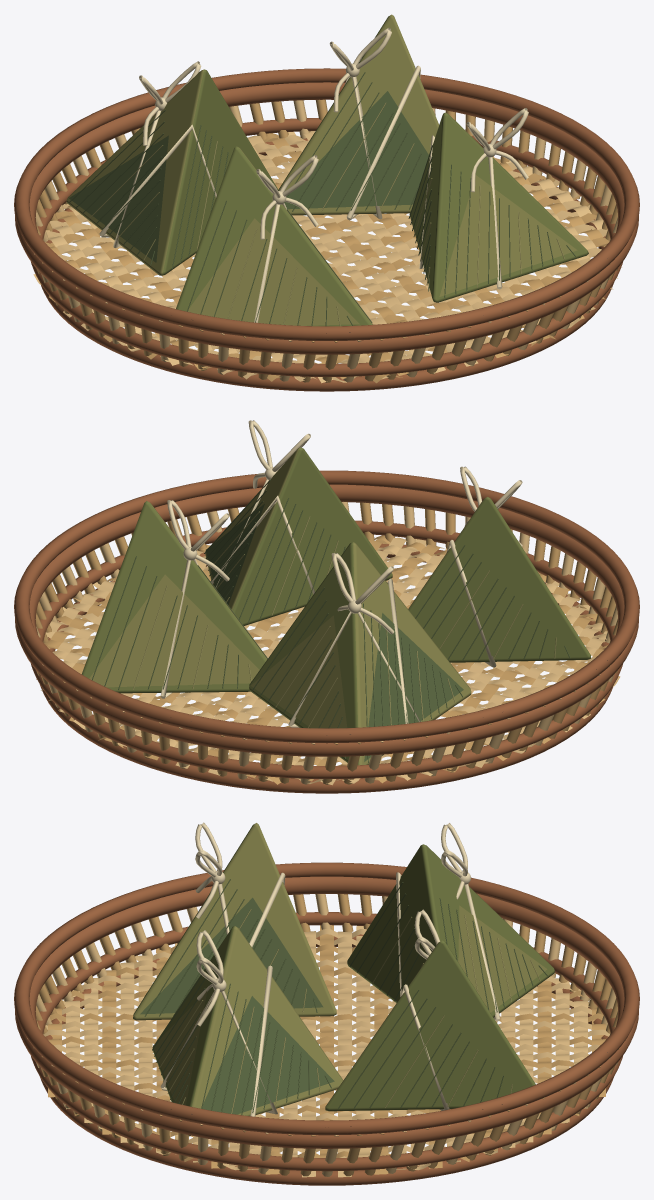
The picture shows the model from 3 angles, top to bottom: view 1: azimuth 30°, elevation 25°; view 2: azimuth 150°, elevation 25°; view 3: azimuth 270°, elevation 25°; orthographic projection.
Visible parts, largest first — view 1: Woven sieve, Wrapped parcels, String ties, Veins; view 2: Woven sieve, Wrapped parcels, Veins, String ties; view 3: Woven sieve, Wrapped parcels, String ties, Veins.
Boxes of the visible parts, box(x1,y1,x2,y2) form: Woven sieve: box(14, 68, 639, 391); Wrapped parcels: box(66, 14, 588, 326); String ties: box(99, 27, 528, 322); Veins: box(69, 72, 575, 326); Woven sieve: box(14, 470, 639, 793); Wrapped parcels: box(82, 447, 590, 765); Veins: box(92, 479, 570, 762); String ties: box(160, 420, 522, 727); Woven sieve: box(14, 862, 639, 1185); Wrapped parcels: box(133, 823, 554, 1136); String ties: box(160, 822, 500, 1116); Veins: box(144, 879, 547, 1115).
Size of the model in its own units: 0.359 by 0.1174 by 0.359.
